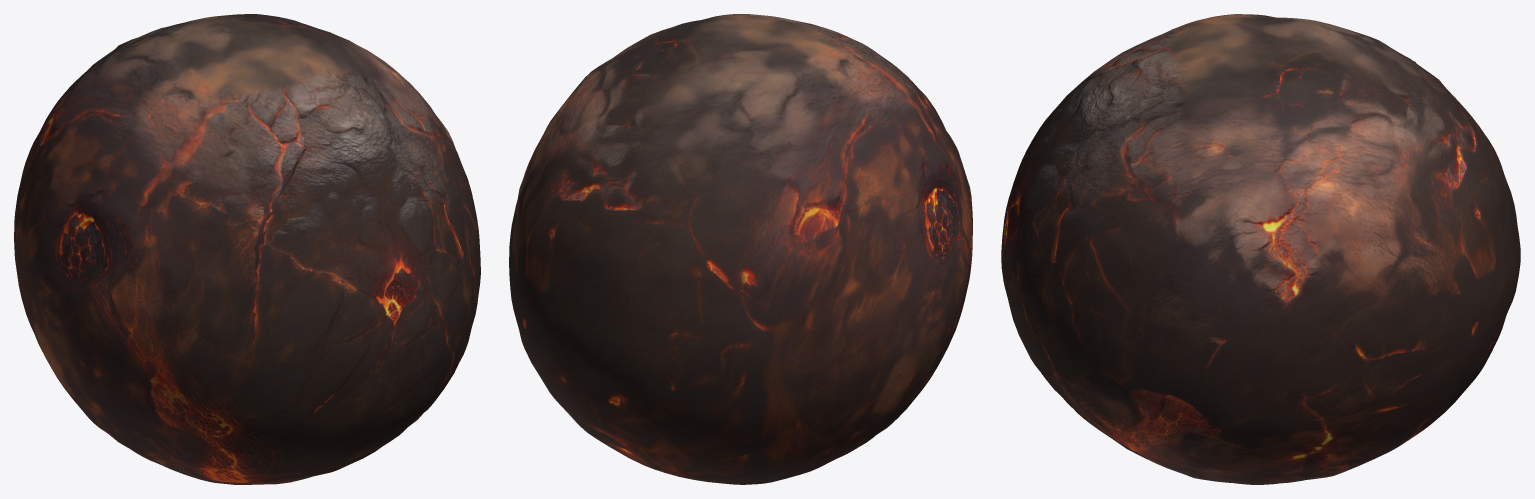
Rendered from Molten_Earth_0809000822_texture-Jq4giKi4.glb.
The picture shows the model from 3 angles, left to right: view 1: azimuth 30°, elevation 25°; view 2: azimuth 150°, elevation 25°; view 3: azimuth 270°, elevation 25°; orthographic projection.
Size of the model in its own units: 1.53 by 1.56 by 1.74.
1 material, 1 textured.
